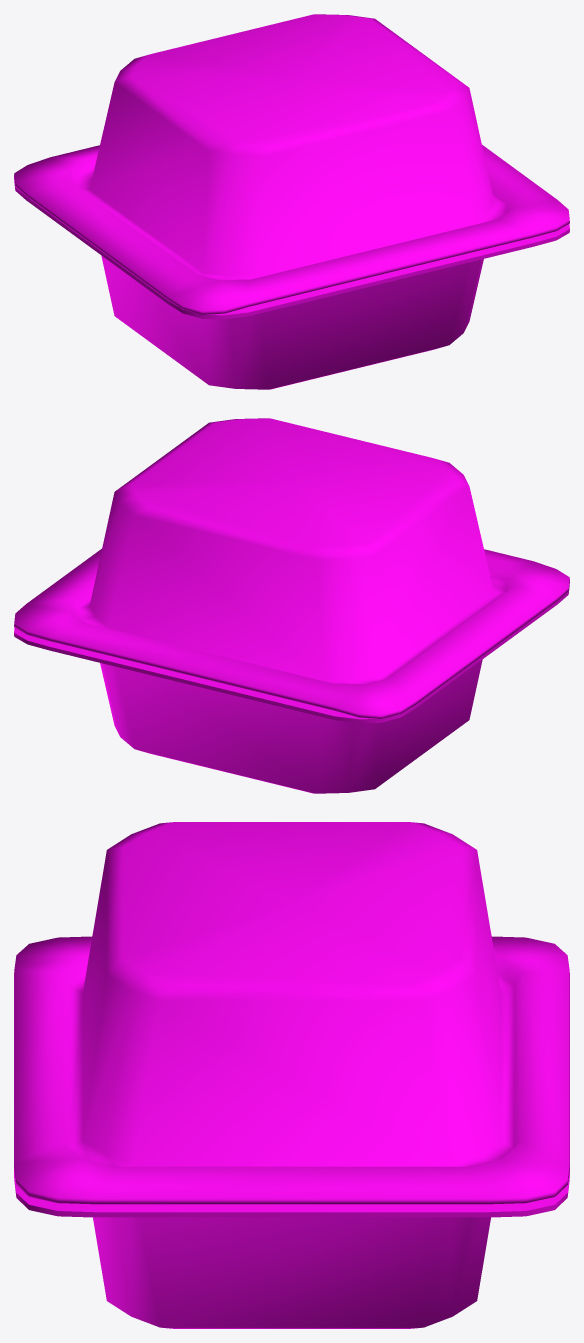
File: box_plastic_meshCollider.fbx
3 renders of one model, top to bottom at view 1: azimuth 30°, elevation 25°; view 2: azimuth 150°, elevation 25°; view 3: azimuth 270°, elevation 25°, orthographic. The views are drawn at different scales.
Parts seen in each view (by area): view 1: foods_package_box_plastic_1_cover_meshCollider, foods_package_box_plastic_1_meshCollider; view 2: foods_package_box_plastic_1_cover_meshCollider, foods_package_box_plastic_1_meshCollider; view 3: foods_package_box_plastic_1_cover_meshCollider, foods_package_box_plastic_1_meshCollider.
Boxes of the visible parts, <box> form: foods_package_box_plastic_1_cover_meshCollider: <box>14,14,569,314</box>; foods_package_box_plastic_1_meshCollider: <box>14,179,569,389</box>; foods_package_box_plastic_1_cover_meshCollider: <box>14,418,569,718</box>; foods_package_box_plastic_1_meshCollider: <box>14,583,569,793</box>; foods_package_box_plastic_1_cover_meshCollider: <box>14,822,569,1204</box>; foods_package_box_plastic_1_meshCollider: <box>14,1170,569,1328</box>.
Size of the model in its own units: 26.44 by 16 by 23.4.
